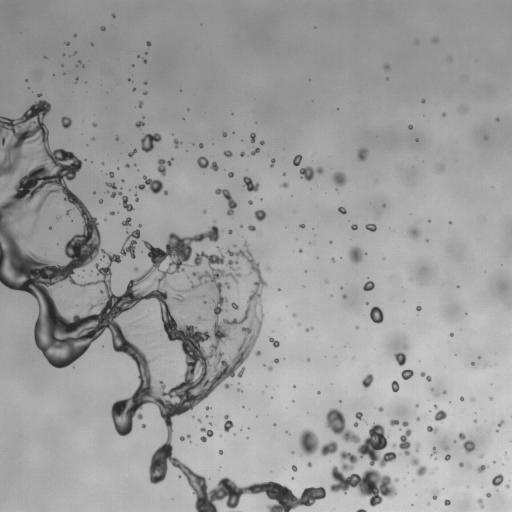droplet: (326, 408, 397, 506), (299, 429, 338, 456), (137, 175, 163, 194), (140, 133, 161, 152), (299, 166, 322, 180), (348, 246, 365, 263), (157, 158, 173, 175), (243, 176, 259, 191), (370, 306, 383, 323), (332, 172, 346, 186), (200, 427, 213, 442), (434, 405, 446, 421), (394, 352, 406, 366), (362, 374, 373, 388), (357, 148, 368, 161), (492, 474, 503, 487), (254, 209, 265, 221), (401, 369, 413, 380), (408, 227, 419, 238), (363, 280, 374, 291), (61, 116, 71, 128), (269, 337, 279, 347), (391, 380, 399, 392), (293, 154, 301, 165), (122, 217, 131, 226), (431, 489, 439, 499), (365, 224, 376, 231), (477, 465, 486, 473), (338, 206, 346, 214), (427, 426, 437, 432), (251, 148, 259, 155), (224, 150, 232, 157), (355, 412, 362, 420), (135, 121, 144, 127), (390, 419, 399, 425), (174, 139, 180, 147), (436, 165, 444, 171), (250, 133, 255, 142), (248, 225, 255, 231), (498, 420, 504, 427), (444, 499, 450, 506), (56, 214, 62, 220), (351, 224, 357, 230), (444, 454, 450, 460), (291, 465, 297, 471), (270, 159, 275, 166), (108, 172, 114, 177), (281, 182, 287, 187), (402, 421, 408, 426), (433, 37, 438, 42), (228, 172, 233, 177), (416, 306, 421, 311), (267, 366, 272, 371), (353, 422, 358, 427), (139, 101, 143, 107), (306, 327, 312, 331), (146, 41, 150, 46), (384, 65, 389, 69), (199, 143, 203, 148), (66, 210, 70, 215), (109, 211, 114, 215), (299, 224, 304, 228), (274, 358, 278, 363), (224, 384, 229, 388), (378, 407, 383, 411), (459, 462, 463, 467), (486, 493, 491, 497), (135, 195, 138, 201), (101, 26, 105, 30), (37, 93, 41, 97), (421, 99, 425, 103), (408, 125, 412, 129), (222, 132, 226, 136), (240, 152, 244, 156), (248, 200, 252, 204), (228, 229, 232, 233), (342, 294, 346, 298), (256, 351, 260, 355), (206, 406, 210, 410), (141, 424, 145, 428), (444, 446, 448, 450), (394, 478, 398, 482), (470, 398, 475, 401), (308, 462, 311, 467), (92, 123, 96, 126), (260, 141, 264, 144), (163, 191, 167, 194), (99, 199, 102, 203), (434, 392, 437, 396), (392, 443, 395, 447), (219, 450, 222, 454), (112, 14, 115, 17), (66, 42, 69, 45), (143, 59, 146, 62), (115, 136, 118, 139), (126, 164, 129, 167), (299, 249, 302, 252), (331, 258, 334, 261), (186, 275, 189, 278), (450, 333, 453, 336), (404, 345, 407, 348), (471, 362, 474, 365), (430, 388, 433, 391), (317, 391, 320, 394), (443, 391, 446, 394), (460, 397, 463, 400), (415, 404, 418, 407), (416, 417, 419, 420), (198, 419, 201, 422), (474, 419, 477, 422), (291, 450, 294, 453), (480, 455, 483, 458), (506, 484, 509, 487), (267, 266, 269, 270), (132, 88, 135, 90), (144, 91, 146, 94), (442, 113, 445, 115), (49, 226, 51, 229), (135, 267, 137, 270), (355, 326, 358, 328), (307, 358, 309, 361), (238, 389, 241, 391), (91, 43, 93, 45), (78, 61, 80, 63), (76, 78, 78, 80), (496, 118, 498, 120), (283, 173, 285, 175), (383, 204, 385, 206), (139, 225, 141, 227), (278, 288, 280, 290), (366, 302, 368, 304), (196, 305, 198, 307), (292, 314, 294, 316), (286, 431, 288, 433), (179, 475, 181, 477)
ligament: (0, 102, 323, 511), (106, 182, 133, 211), (215, 188, 237, 215), (458, 432, 475, 453), (399, 428, 411, 455), (197, 156, 218, 171), (410, 457, 427, 475), (224, 414, 233, 431), (420, 372, 431, 381), (179, 434, 190, 440), (128, 149, 136, 157), (430, 447, 436, 457), (477, 498, 483, 508), (415, 444, 419, 451), (356, 509, 366, 511)
